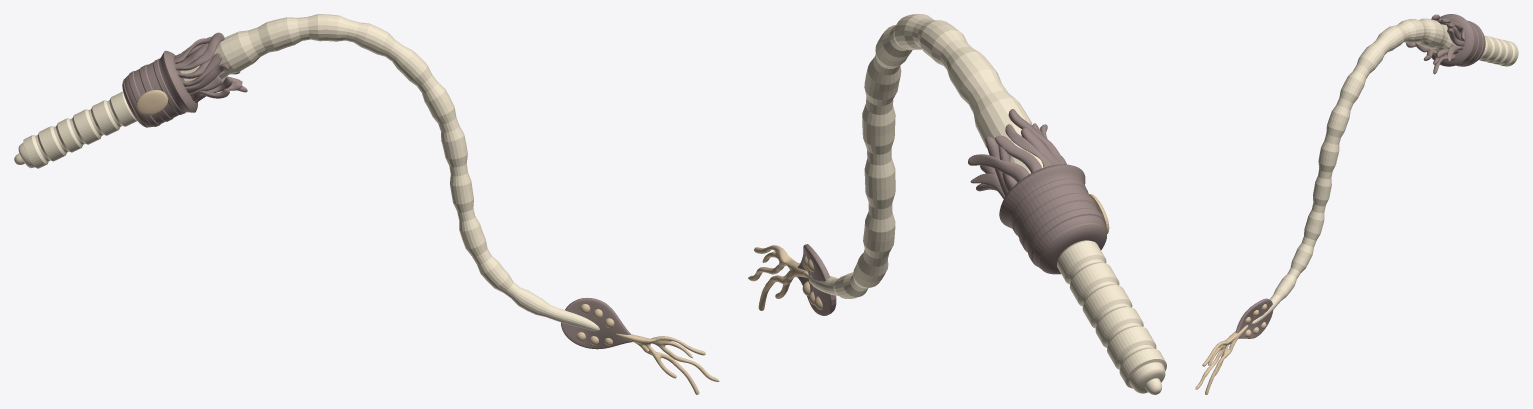
File: COSSACK_WHIP_3#20.glb
The picture shows the model from 3 angles, left to right: view 1: azimuth 30°, elevation 25°; view 2: azimuth 150°, elevation 25°; view 3: azimuth 270°, elevation 25°; orthographic projection. The views are drawn at different scales.
Visible parts, largest first — view 1: Plet3-Material.005, Plet3-Material.007, Plet3-Material.001, Plet3-Material.006, Plet3-Material.002, Plet3-Material.004, Plet3-Material.21; view 2: Plet3-Material.005, Plet3-Material.001, Plet3-Material.007, Plet3-Material.006, Plet3-Material.004, Plet3-Material.002, Plet3-Material.003; view 3: Plet3-Material.005, Plet3-Material.001, Plet3-Material.006, Plet3-Material.007, Plet3-Material.004, Plet3-Material.002.
Boxes of the visible parts, box(x1,y1,x2,y2) form: Plet3-Material.005: box(180, 14, 599, 331); Plet3-Material.007: box(18, 91, 136, 168); Plet3-Material.001: box(122, 50, 197, 127); Plet3-Material.006: box(174, 32, 247, 103); Plet3-Material.002: box(561, 297, 632, 349); Plet3-Material.004: box(616, 333, 719, 394); Plet3-Material.21: box(136, 90, 167, 115); Plet3-Material.005: box(808, 14, 1043, 298); Plet3-Material.001: box(999, 164, 1106, 274); Plet3-Material.007: box(1057, 240, 1166, 393); Plet3-Material.006: box(968, 109, 1066, 198); Plet3-Material.004: box(748, 245, 808, 310); Plet3-Material.002: box(797, 244, 836, 315); Plet3-Material.003: box(802, 256, 822, 309); Plet3-Material.005: box(1251, 18, 1455, 324); Plet3-Material.001: box(1431, 14, 1485, 66); Plet3-Material.006: box(1406, 14, 1465, 74); Plet3-Material.007: box(1479, 35, 1518, 66); Plet3-Material.004: box(1195, 325, 1248, 394); Plet3-Material.002: box(1235, 298, 1273, 338).
Size of the model in its own units: 3.57 by 2.4 by 2.59.
